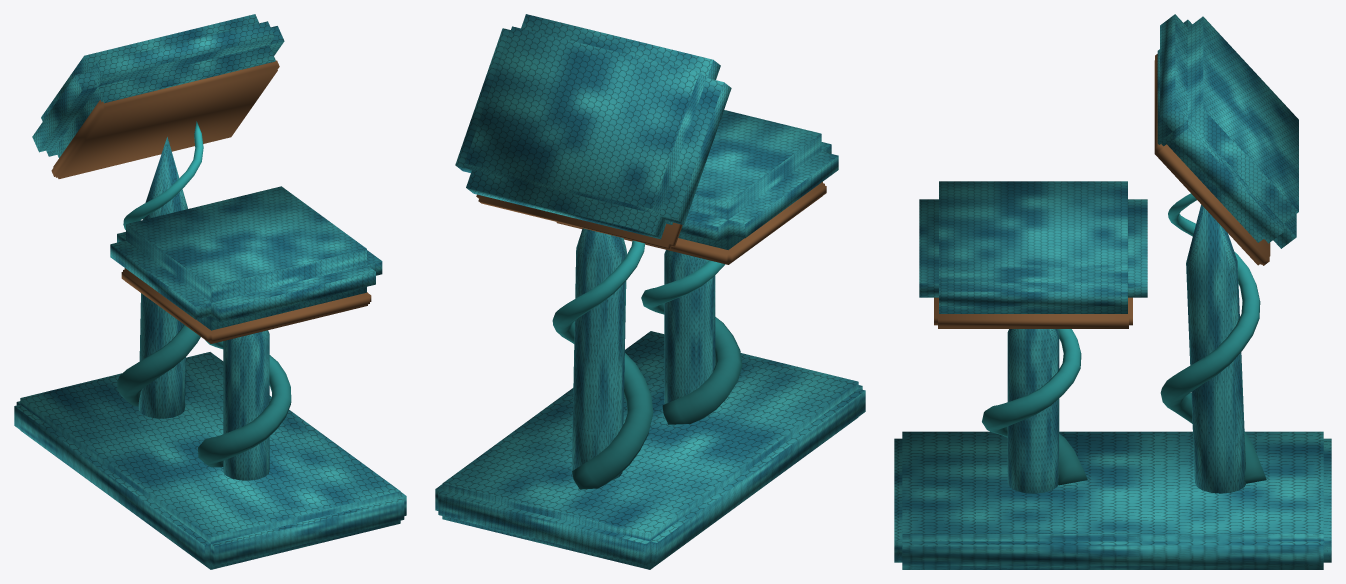
The model's file is KrakenBench.glb.
The picture shows the model from 3 angles, left to right: view 1: azimuth 30°, elevation 25°; view 2: azimuth 150°, elevation 25°; view 3: azimuth 270°, elevation 25°; orthographic projection. The views are drawn at different scales.
Parts seen in each view (by area): view 1: KrakenBench; view 2: KrakenBench; view 3: KrakenBench.
Boxes of the visible parts, bbox=[...] form: KrakenBench: bbox=[14, 14, 406, 569]; KrakenBench: bbox=[435, 14, 865, 569]; KrakenBench: bbox=[894, 14, 1331, 569].
Bounding box in the file's own units: 1.3 × 2.55 × 2.2.
1 material, 1 textured.
